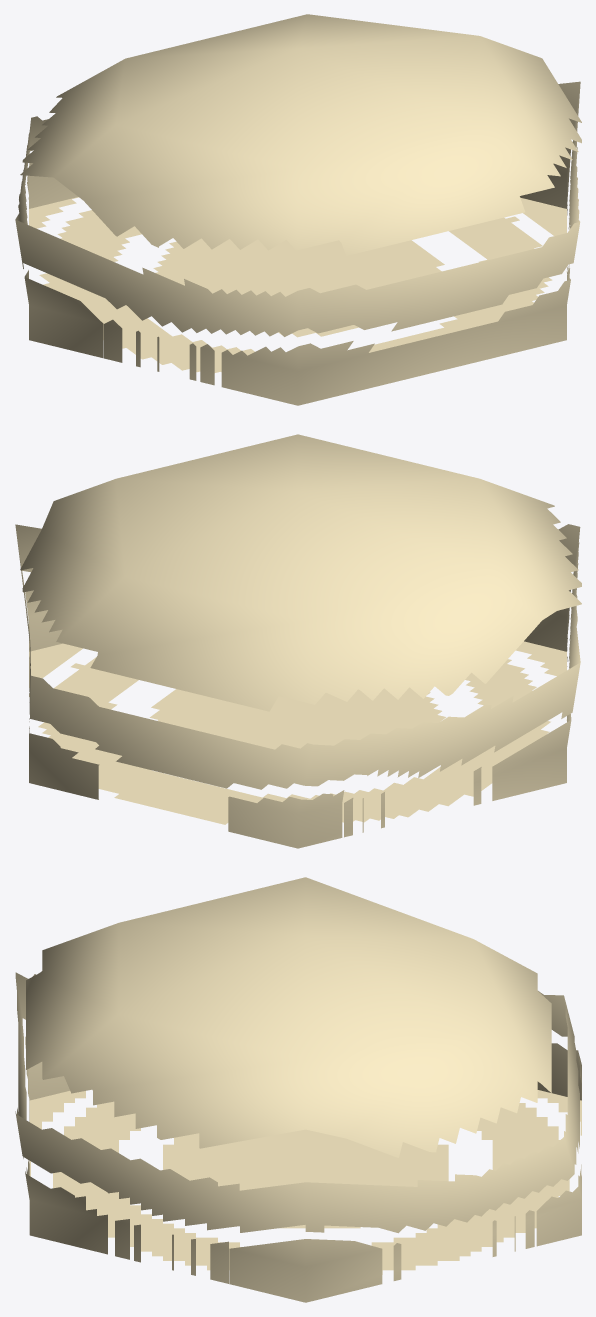
Rendered from Hat4.FBX.
3 views of the same model, one above another, from view 1: azimuth 30°, elevation 25°; view 2: azimuth 150°, elevation 25°; view 3: azimuth 270°, elevation 25° (orthographic). The views are drawn at different scales.
Parts seen in each view (by area): view 1: Cylinder001; view 2: Cylinder001; view 3: Cylinder001.
Part boxes in pixels (bbox=[...]): Cylinder001: bbox=[15, 14, 581, 405]; Cylinder001: bbox=[15, 434, 581, 848]; Cylinder001: bbox=[15, 877, 581, 1302].
Size of the model in its own units: 34.28 by 13.02 by 28.9.
Materials: 1 (1 with a texture image).
